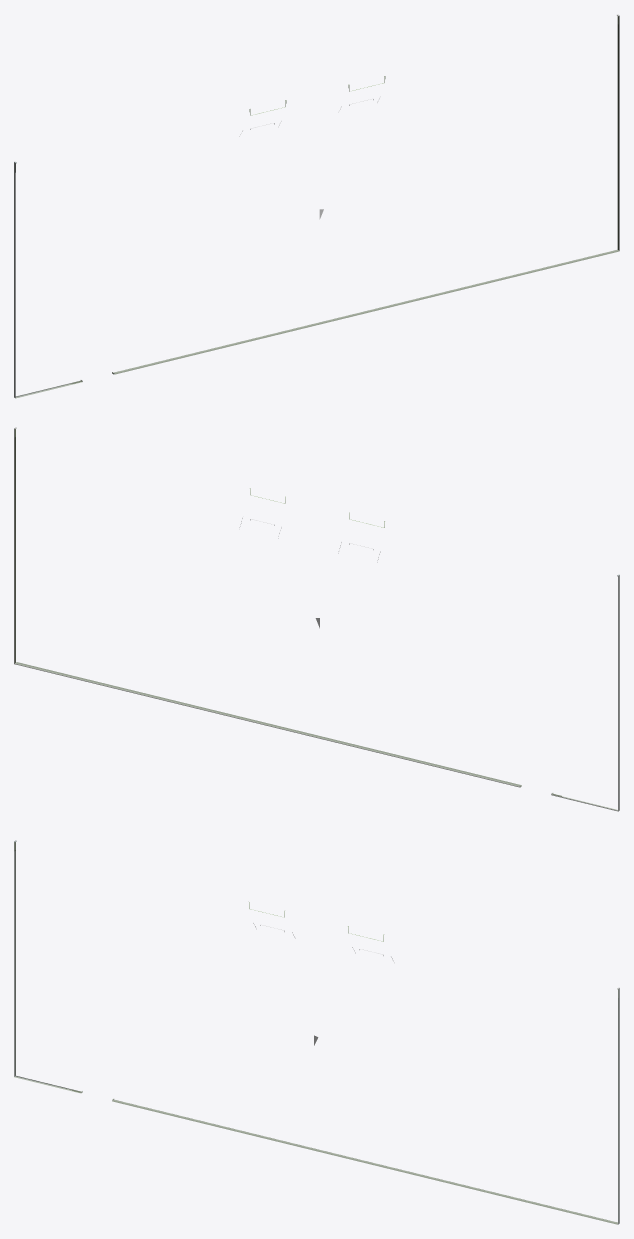
The model's file is SM_000427_merge_wall01__001.fbx.
3 views of the same model, one above another, from view 1: azimuth 30°, elevation 25°; view 2: azimuth 150°, elevation 25°; view 3: azimuth 330°, elevation 25° (orthographic).
Visible parts, largest first — view 1: SM_000427.001; view 2: SM_000427.001; view 3: SM_000427.001.
Boxes of the visible parts, left/top/right/bottom form: SM_000427.001: left=14, top=14, right=619, bottom=398; SM_000427.001: left=14, top=427, right=619, bottom=811; SM_000427.001: left=14, top=840, right=619, bottom=1224.
Bounding box in the file's own units: 330 × 123 × 10.97.
